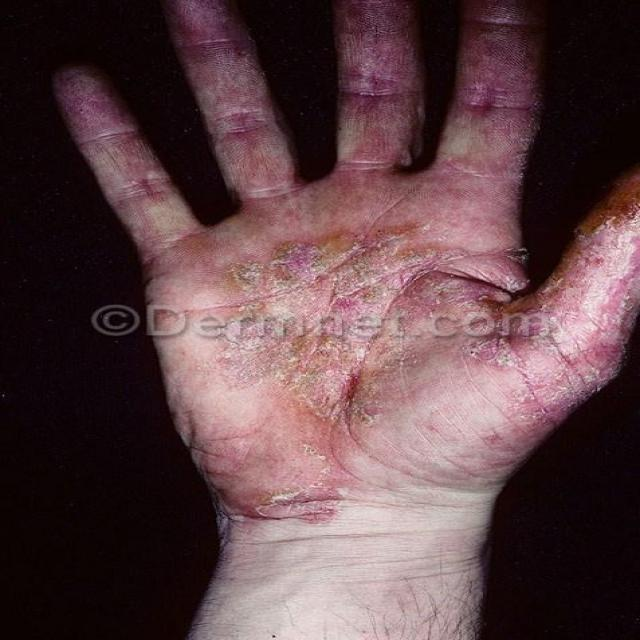Eczema: (95, 0, 622, 418)
